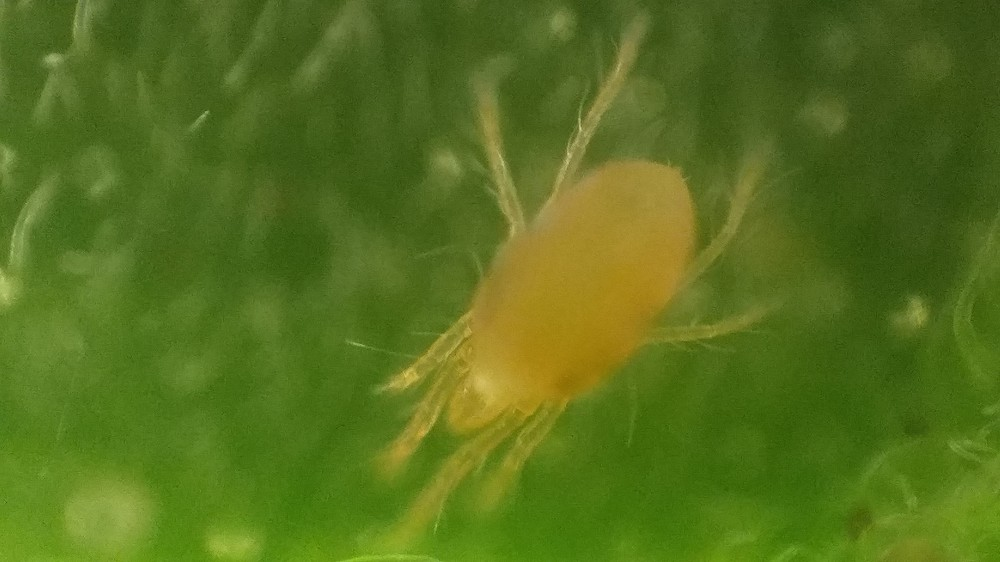Aracnido Rojo: (352, 30, 840, 529)
